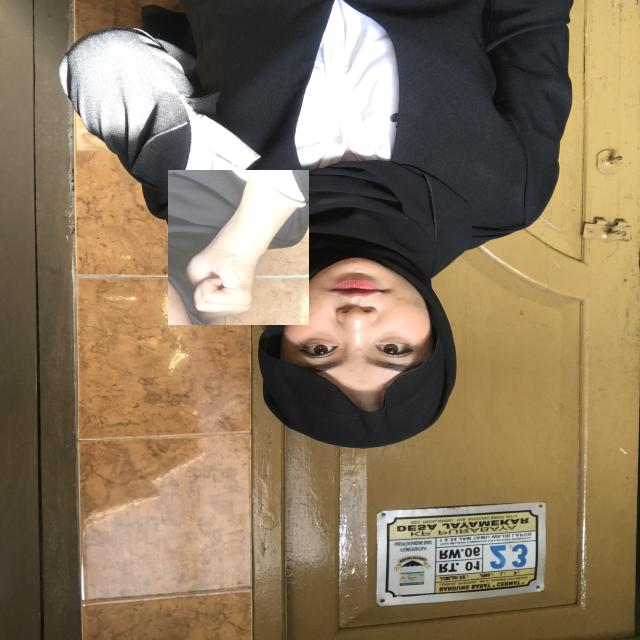ibu: (168, 170, 309, 325)
